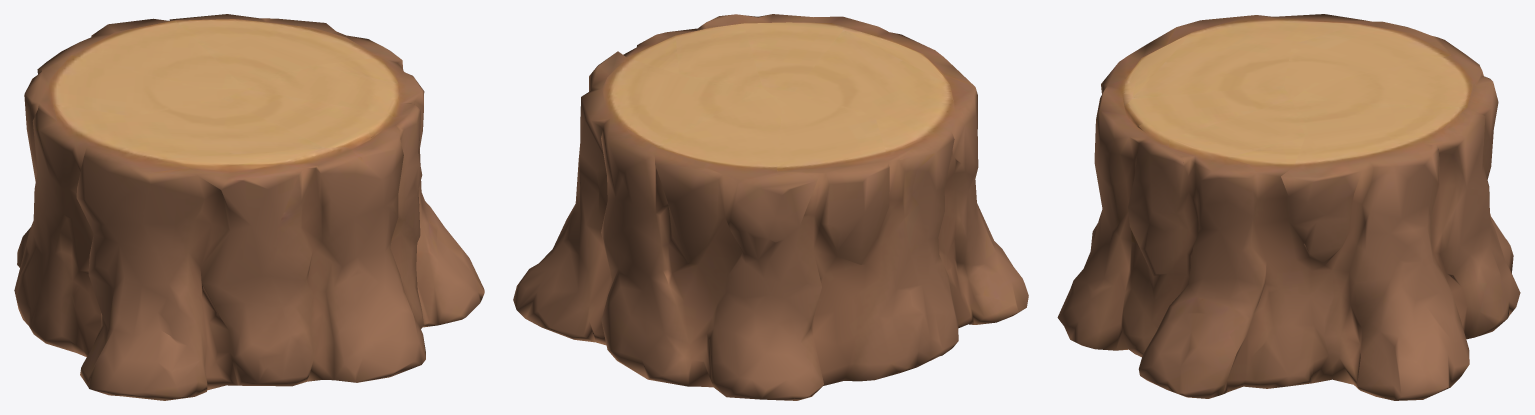
Rendered from f-stump.glb.
The picture shows the model from 3 angles, left to right: view 1: azimuth 30°, elevation 25°; view 2: azimuth 150°, elevation 25°; view 3: azimuth 270°, elevation 25°; orthographic projection.
Parts seen in each view (by area): view 1: tripo_node_bd04cf30-ab79-4aec-9f55-f78ca197c2e9; view 2: tripo_node_bd04cf30-ab79-4aec-9f55-f78ca197c2e9; view 3: tripo_node_bd04cf30-ab79-4aec-9f55-f78ca197c2e9.
Part boxes in pixels (bbox=[...]): tripo_node_bd04cf30-ab79-4aec-9f55-f78ca197c2e9: bbox=[14, 14, 484, 400]; tripo_node_bd04cf30-ab79-4aec-9f55-f78ca197c2e9: bbox=[513, 14, 1028, 400]; tripo_node_bd04cf30-ab79-4aec-9f55-f78ca197c2e9: bbox=[1057, 14, 1520, 400].
Size of the model in its own units: 0.9998 by 0.5151 by 1.
1 material, 1 textured.
